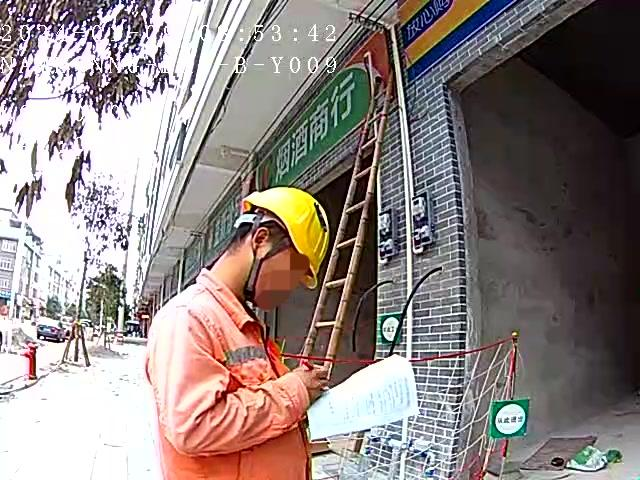halt: (211, 187, 326, 310)
inear: (245, 223, 285, 279)
